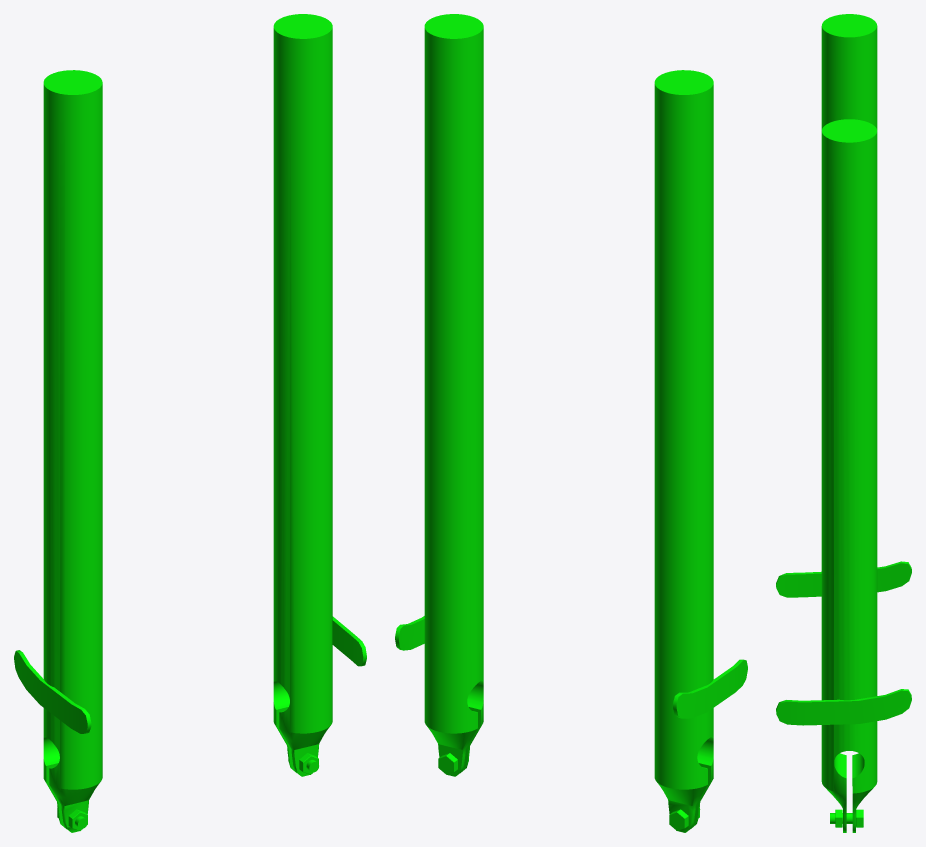
File: Fork1.fbx
The picture shows the model from 3 angles, left to right: view 1: azimuth 30°, elevation 25°; view 2: azimuth 150°, elevation 25°; view 3: azimuth 270°, elevation 25°; orthographic projection. The views are drawn at different scales.
Visible parts, largest first — view 1: Fork1; view 2: Fork1; view 3: Fork1.
Part boxes in pixels (bbox=[...]): Fork1: bbox=[14, 14, 366, 832]; Fork1: bbox=[395, 14, 747, 832]; Fork1: bbox=[776, 14, 911, 832].
Size of the model in its own units: 154 by 385 by 67.75.
